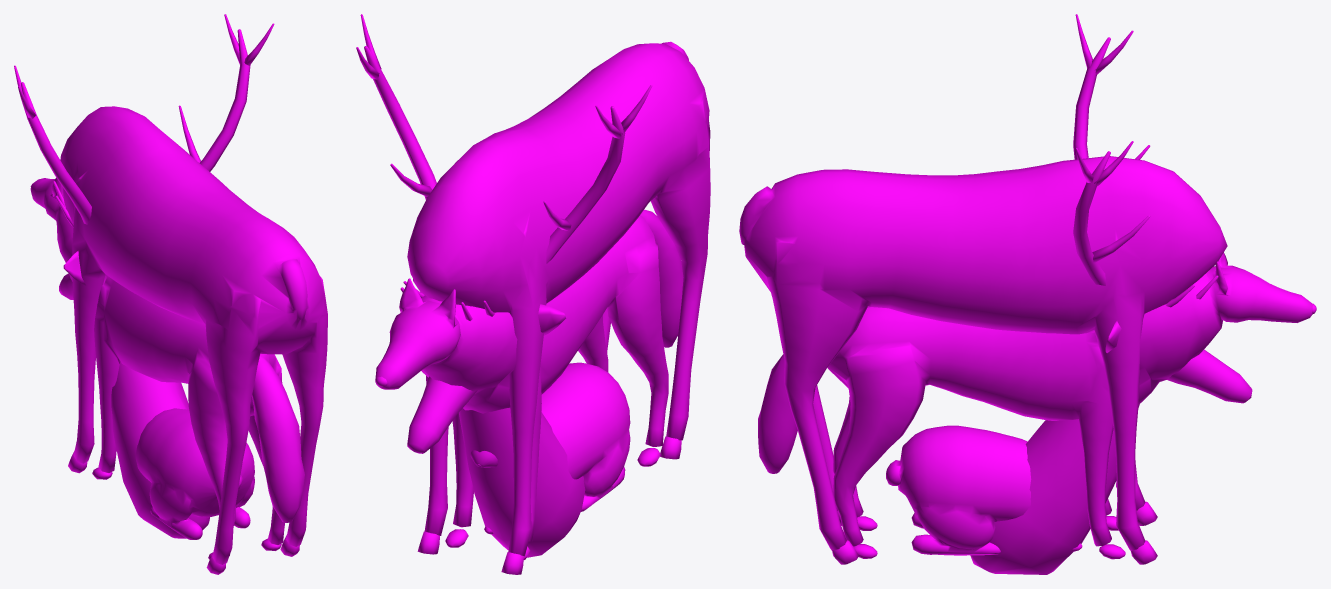
The model's file is alpine-wildlife.glb.
The picture shows the model from 3 angles, left to right: view 1: azimuth 30°, elevation 25°; view 2: azimuth 150°, elevation 25°; view 3: azimuth 270°, elevation 25°; orthographic projection. The views are drawn at different scales.
Visible parts, largest first — view 1: wild_deerBody, wild_wolf, wild_stagHead, wild_hare, wild_hindHead; view 2: wild_deerBody, wild_wolf, wild_stagHead, wild_hare, wild_hindHead; view 3: wild_deerBody, wild_wolf, wild_stagHead, wild_hare, wild_hindHead.
Boxes of the visible parts, <box> form: wild_deerBody: <box>60,106,327,574</box>; wild_wolf: <box>30,177,304,559</box>; wild_stagHead: <box>14,14,274,536</box>; wild_hare: <box>135,408,254,539</box>; wild_hindHead: <box>59,251,208,538</box>; wild_deerBody: <box>407,41,710,574</box>; wild_wolf: <box>375,209,683,559</box>; wild_stagHead: <box>356,14,652,557</box>; wild_hare: <box>470,362,630,534</box>; wild_hindHead: <box>407,279,565,453</box>; wild_deerBody: <box>739,156,1227,564</box>; wild_wolf: <box>758,252,1316,559</box>; wild_stagHead: <box>972,14,1218,574</box>; wild_hare: <box>886,425,1082,555</box>; wild_hindHead: <box>970,321,1252,571</box>.
Bounding box in the file's own units: 0.8703 × 1.48 × 1.58.
